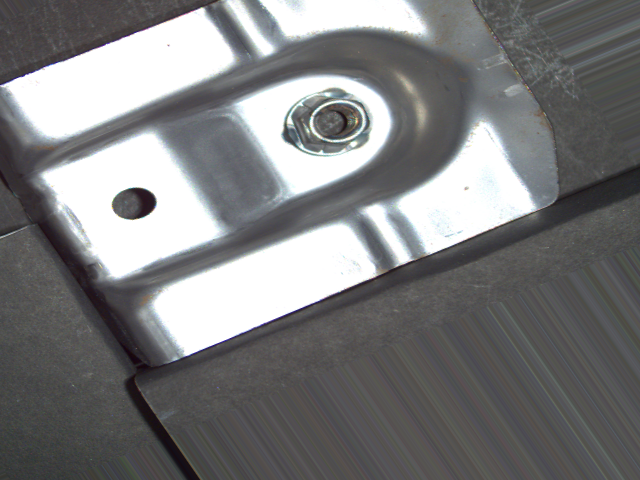good: (277, 85, 380, 156)
